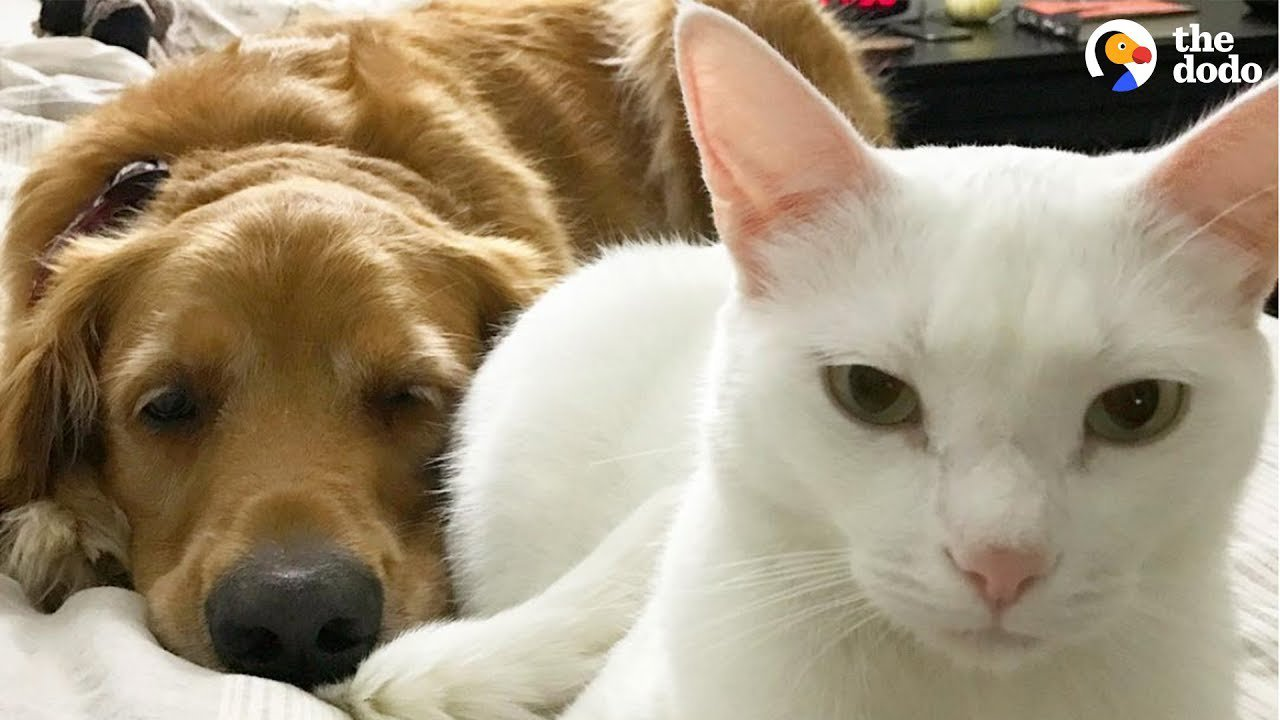cat: (547, 4, 1265, 720)
dog: (17, 15, 794, 698)
